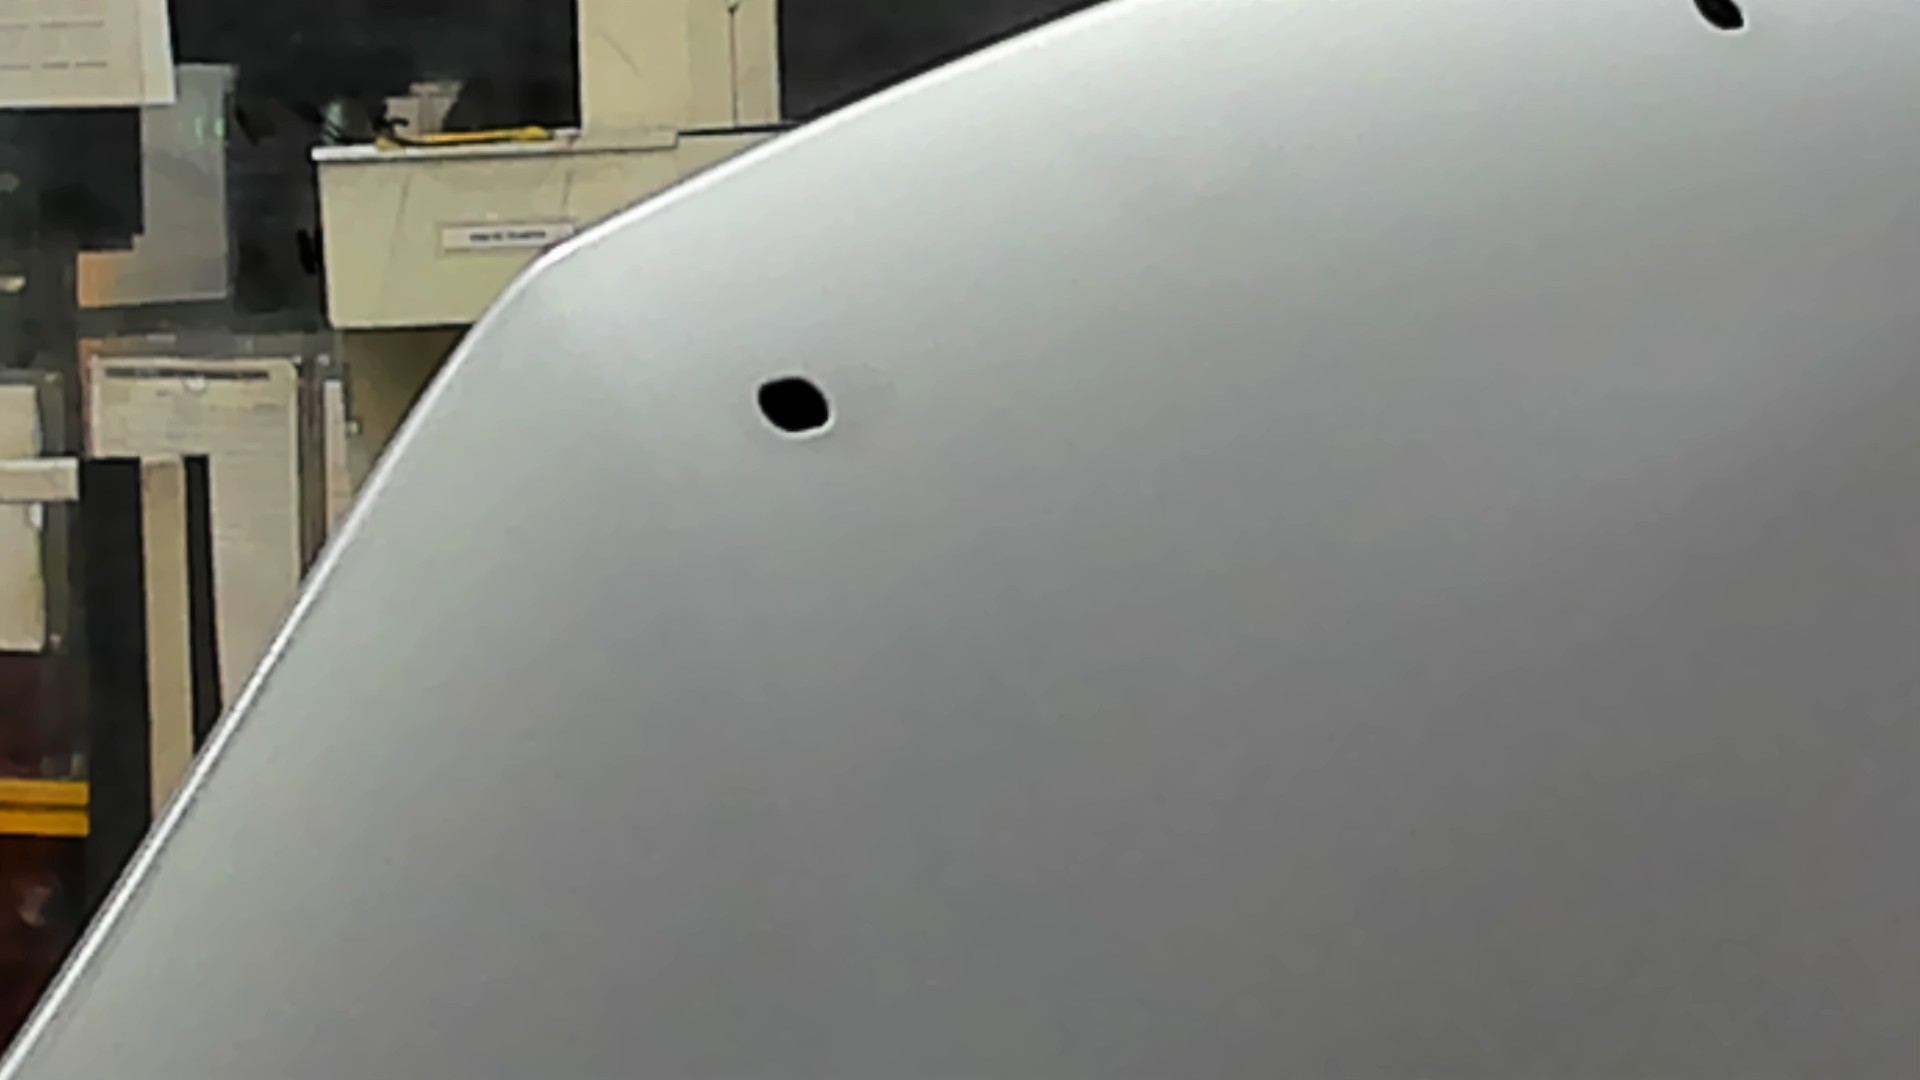Agujero: (752, 371, 837, 440), (1687, 1, 1749, 36)
